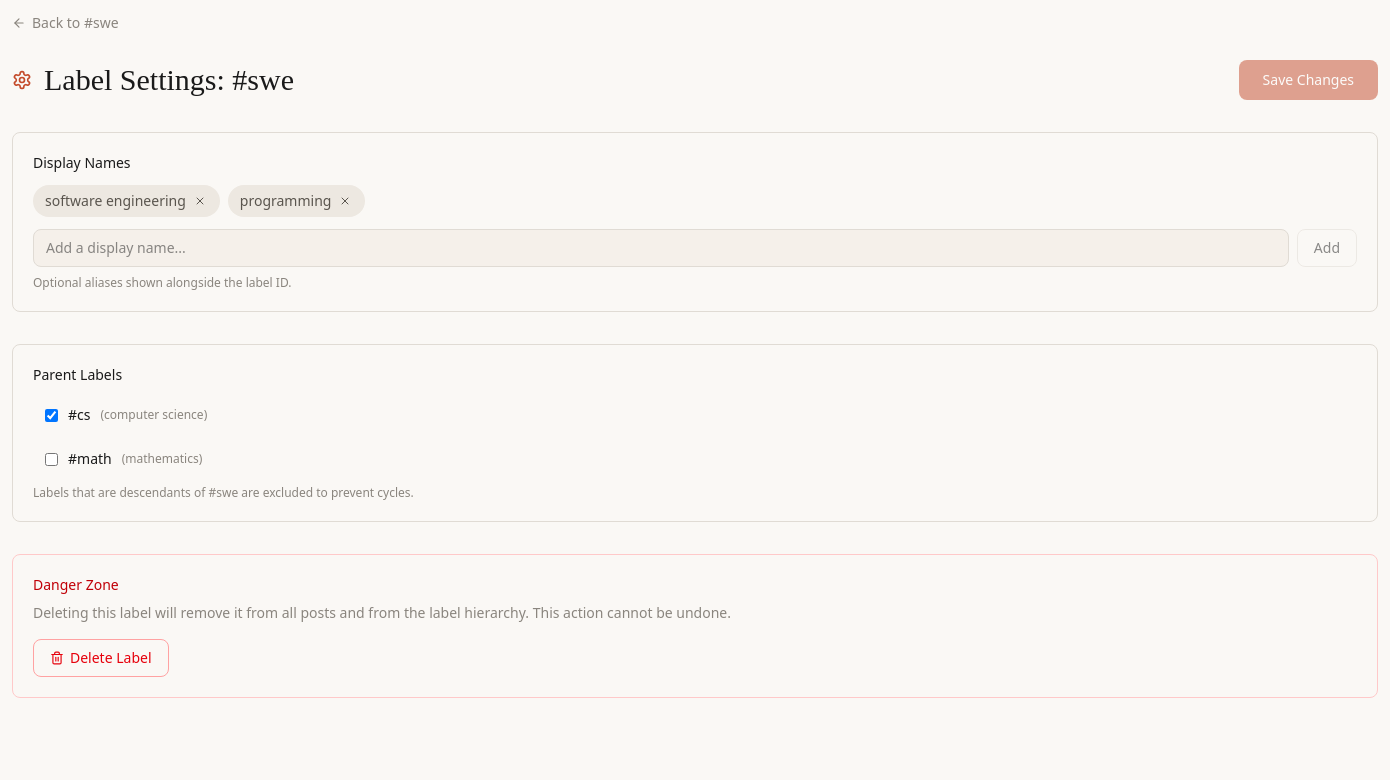
Test: LabelSettingsPage › preserves dirty form state when labels revalidate with fresh server data
expect the text "software engineering" is shown: met, box [33,185,220,217]
Note: Make a form edit so the form is dirty
Type "coding" into the field with placeholder "Add a display name...".
click(661, 248); type("coding")  # box [33,229,1289,267]
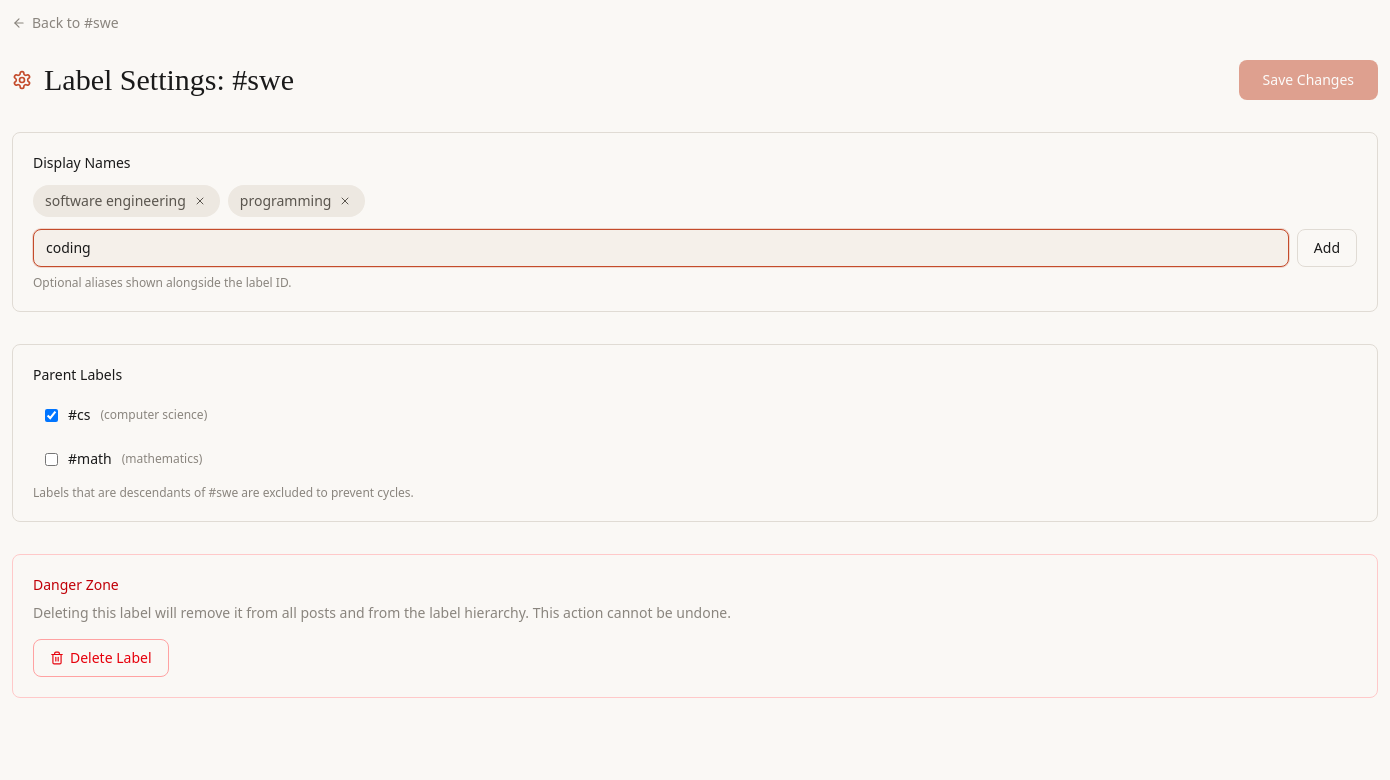
Click the button "Add".
click(1327, 248)  # box [1297,229,1357,267]
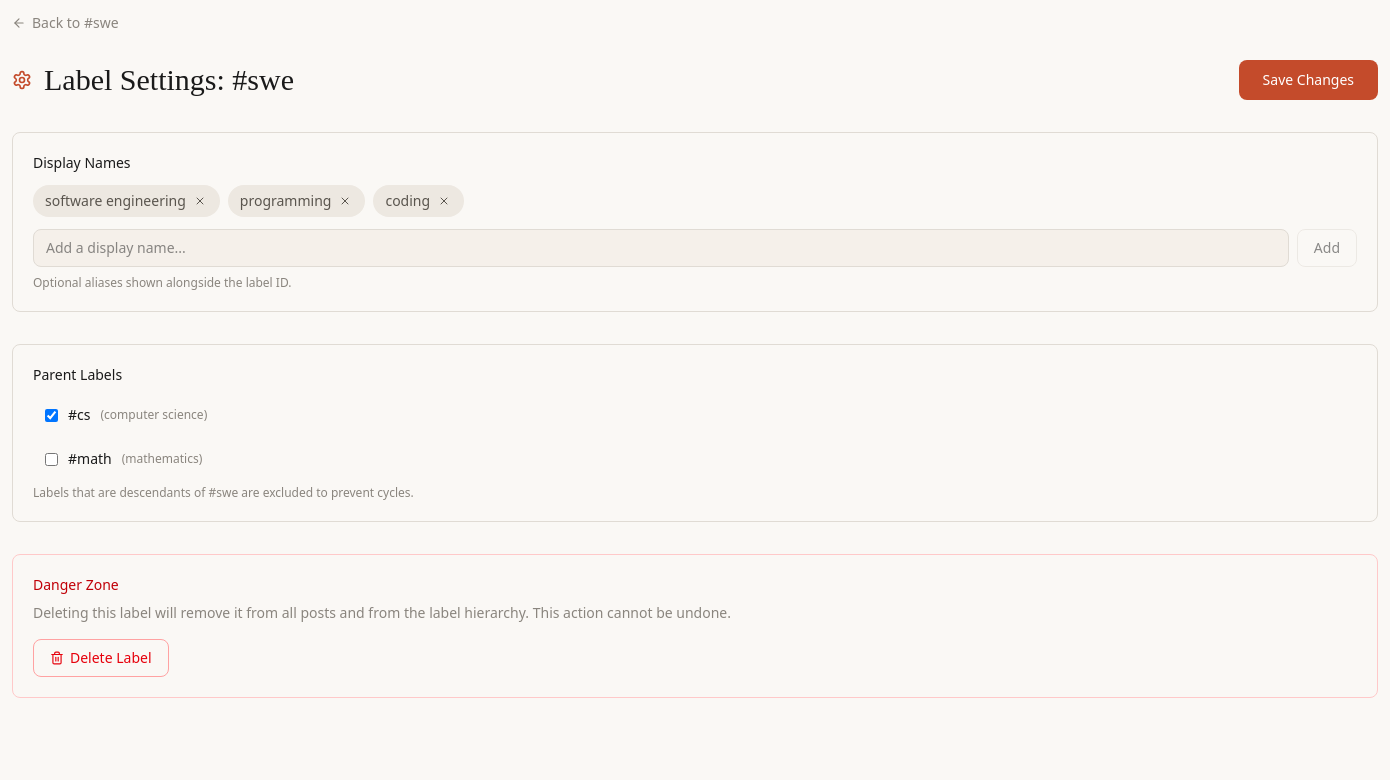
expect the text "software engineering" is shown: met, box [33,185,220,217]
expect the text "coding" is shown: met, box [373,185,464,217]
expect the button "Save Changes" is enabled: met, box [1239,60,1378,100]
